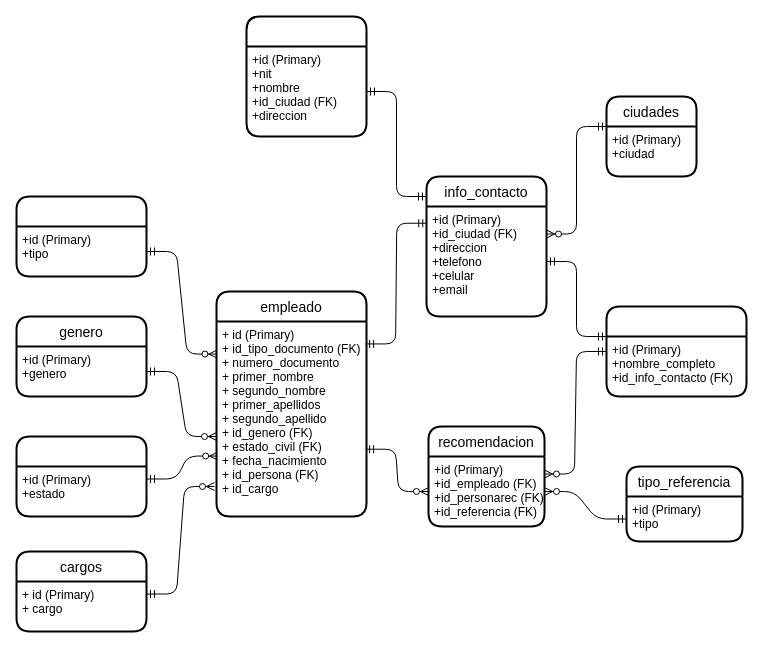
This 763x648 diagram has some shape labels left out. The shapes that lost their labels are listed below. From the top down, each one's box as (x1, y1, x2, y2) in pixels, then its label:
(245, 15, 367, 137): empresa
(15, 195, 147, 277): tipo_documento
(605, 305, 747, 397): referencia
(15, 435, 147, 517): estado_civil
